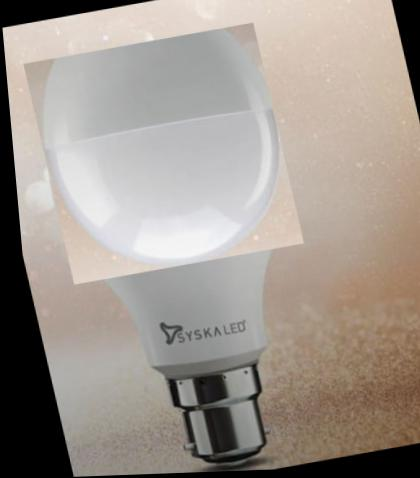Fan: (20, 23, 301, 285)
